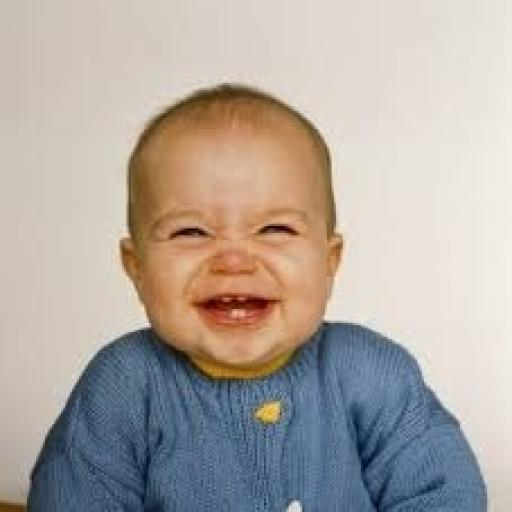laughing: (16, 76, 489, 510)
